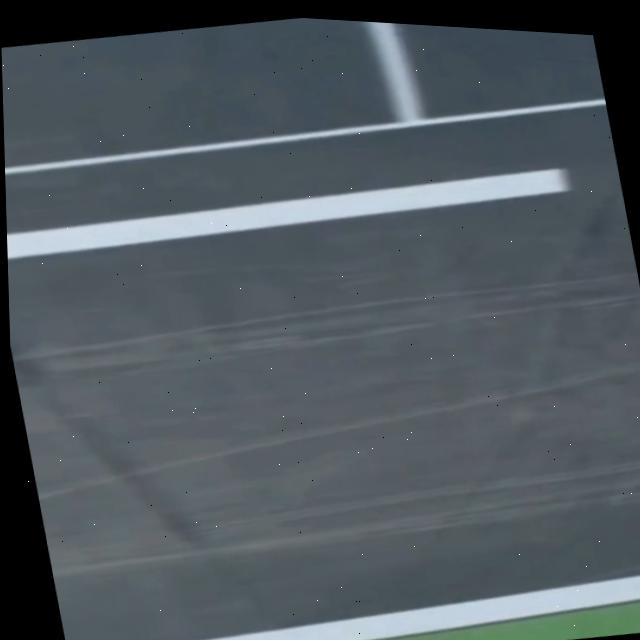center: (7, 167, 570, 257)
right: (189, 573, 640, 640)
